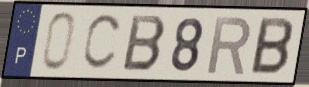0: (39, 9, 81, 74)
8: (171, 16, 205, 73)
B: (247, 15, 295, 78), (120, 13, 168, 74)
C: (80, 12, 125, 73)
R: (205, 14, 253, 76)
